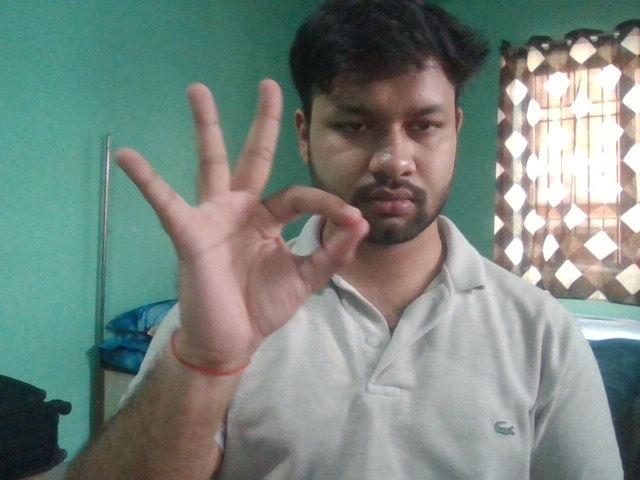Ok: (110, 76, 370, 374)
